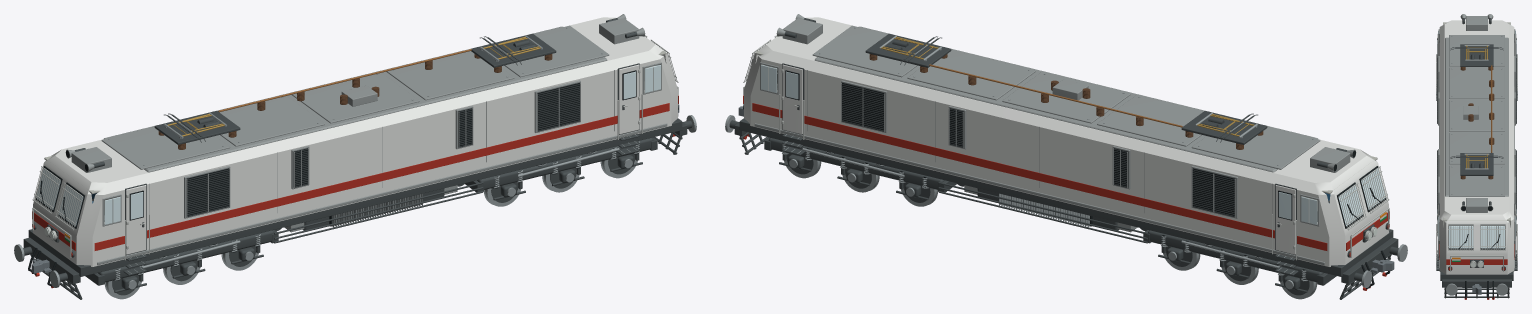
File: WAP7_pantograph_v04_lowered.fbx
3 renders of one model, left to right at view 1: azimuth 30°, elevation 25°; view 2: azimuth 150°, elevation 25°; view 3: azimuth 270°, elevation 25°, orthographic. The views are drawn at different scales.
Parts seen in each view (by area): view 1: Chamfered welded body shell, Main load bearing underframe, Continuous red bodyside band, Central roof equipment deck, Removable roof panel.003, Removable roof panel.001, Removable roof panel.002, Removable roof panel, Removable roof panel.004, Bodyside lower sill, Recessed intake screen.001, Recessed intake screen (+18 smaller); view 2: Chamfered welded body shell, Main load bearing underframe, Continuous red bodyside band.001, Central roof equipment deck, Removable roof panel.003, Removable roof panel.001, Removable roof panel.002, Removable roof panel, Removable roof panel.004, Bodyside lower sill.001, Recessed intake screen.005, Recessed intake screen.004 (+18 smaller); view 3: Chamfered welded body shell, Removable roof panel.001, Central roof equipment deck, Removable roof panel.002, Removable roof panel.004, Removable roof panel.003, Removable roof panel, Pantograph base, Pantograph base.001, Front windscreen glass.002, Front windscreen glass.003, Buffer beam.001 (+17 smaller).
Part boxes in pixels (left/top/right/bottom): Chamfered welded body shell: left=33, top=17, right=677, bottom=266; Main load bearing underframe: left=28, top=118, right=682, bottom=276; Continuous red bodyside band: left=94, top=103, right=669, bottom=250; Central roof equipment deck: left=104, top=26, right=607, bottom=172; Removable roof panel.003: left=386, top=51, right=514, bottom=100; Removable roof panel.001: left=219, top=96, right=324, bottom=146; Removable roof panel.002: left=291, top=73, right=419, bottom=123; Removable roof panel: left=101, top=127, right=230, bottom=169; Removable roof panel.004: left=504, top=25, right=609, bottom=77; Bodyside lower sill: left=97, top=123, right=667, bottom=265; Recessed intake screen.001: left=537, top=82, right=579, bottom=131; Recessed intake screen: left=186, top=168, right=229, bottom=216; Chamfered welded body shell: left=744, top=17, right=1388, bottom=266; Main load bearing underframe: left=739, top=118, right=1393, bottom=276; Continuous red bodyside band.001: left=752, top=103, right=1327, bottom=250; Central roof equipment deck: left=814, top=26, right=1317, bottom=172; Removable roof panel.003: left=907, top=50, right=1035, bottom=100; Removable roof panel.001: left=1097, top=95, right=1203, bottom=146; Removable roof panel.002: left=1002, top=72, right=1130, bottom=123; Removable roof panel: left=1191, top=127, right=1320, bottom=169; Removable roof panel.004: left=812, top=25, right=917, bottom=77; Bodyside lower sill.001: left=754, top=123, right=1324, bottom=265; Recessed intake screen.005: left=842, top=82, right=884, bottom=131; Recessed intake screen.004: left=1192, top=168, right=1235, bottom=216; Chamfered welded body shell: left=1439, top=20, right=1514, bottom=274; Removable roof panel.001: left=1449, top=67, right=1504, bottom=98; Central roof equipment deck: left=1445, top=37, right=1508, bottom=196; Removable roof panel.002: left=1449, top=100, right=1504, bottom=131; Removable roof panel.004: left=1449, top=165, right=1504, bottom=196; Removable roof panel.003: left=1449, top=133, right=1504, bottom=164; Removable roof panel: left=1449, top=35, right=1504, bottom=66; Pantograph base: left=1460, top=44, right=1493, bottom=66; Pantograph base.001: left=1460, top=153, right=1493, bottom=175; Front windscreen glass.002: left=1449, top=226, right=1473, bottom=248; Front windscreen glass.003: left=1480, top=226, right=1504, bottom=248; Buffer beam.001: left=1442, top=279, right=1511, bottom=287.
Size of the model in its own units: 318 by 2056 by 428.
